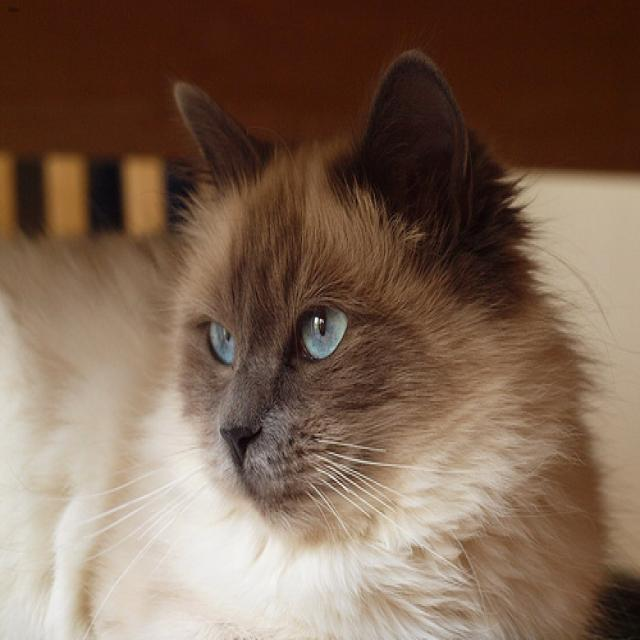Ragdoll: (172, 48, 471, 539)
